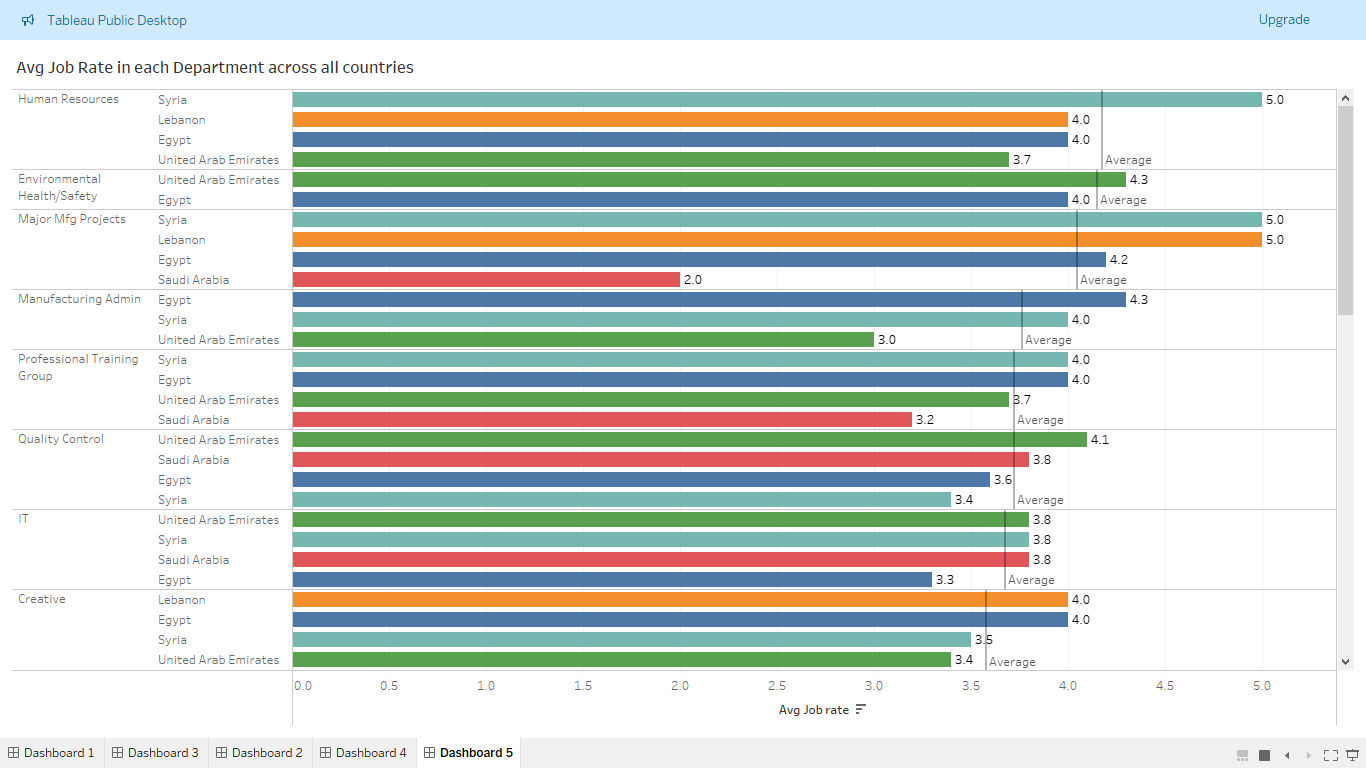

The page's visual inventory and layout, read from the dashboard file:
{"tool":"tableau","page":{"name":"Dashboard 5","canvas":[1000,1000],"units":"permille","ordinal":4},"visuals":[{"type":"worksheet","title":"Sheet 15","mark":"Automatic","rows":["department","country"],"cols":["Avg Job rate"],"box":[6.9,13.5,986.1,973]}]}

Visuals, with their boxes on the dashboard's canvas, which has no fixed pixel size, in thousandths of its width and height (x1, y1, x2, y2). These are canvas units, not pixel positions in the 1366x768 screenshot, which may show the page scaled, cropped or inside an application window:
"Sheet 15" worksheet: [7,14,993,986]
